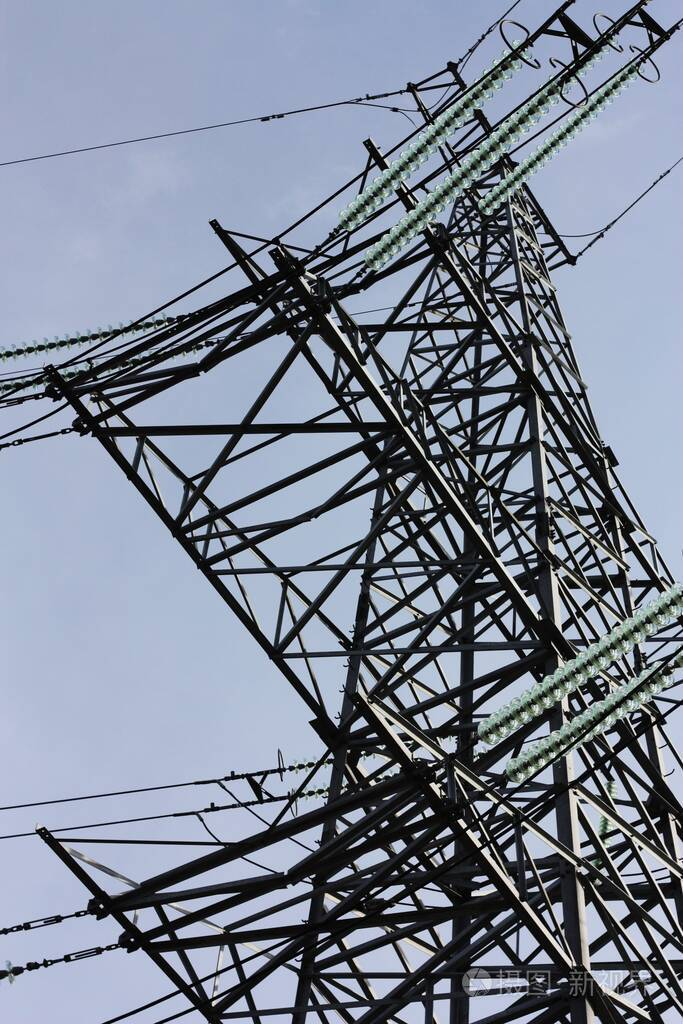insulator: (363, 36, 614, 267), (339, 39, 534, 228), (475, 583, 683, 744), (484, 59, 641, 212), (505, 653, 678, 783), (1, 307, 169, 362)
